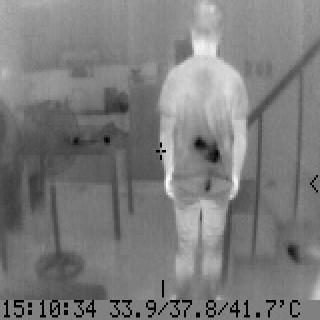Gun: (194, 135, 222, 195)
